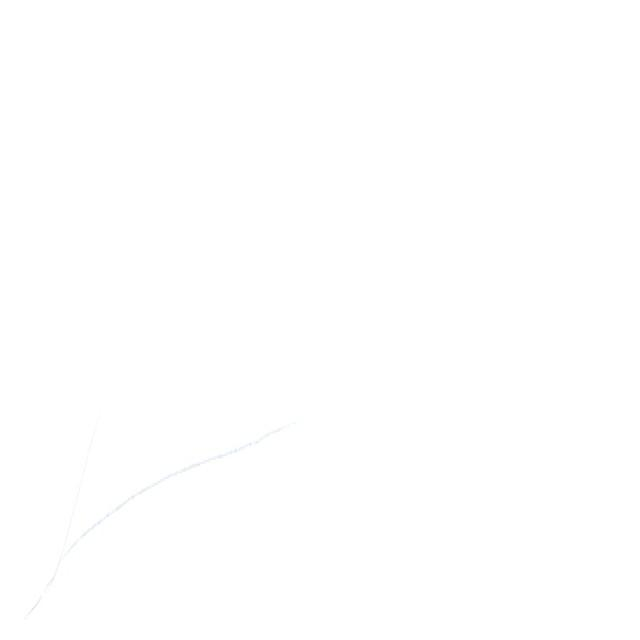crack: (79, 385, 307, 563)
